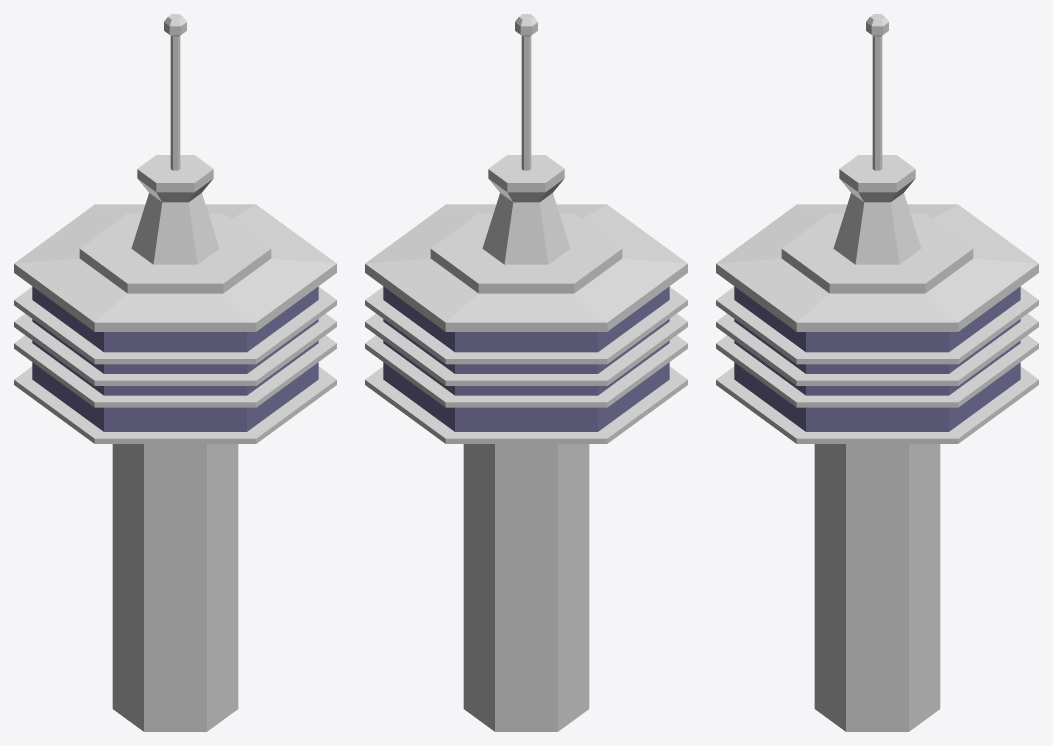
Rendered from Building8.fbx.
3 views of the same model, side by side, from view 1: azimuth 30°, elevation 25°; view 2: azimuth 150°, elevation 25°; view 3: azimuth 270°, elevation 25° (orthographic).
Visible parts, largest first — view 1: Cylinder.001, Cylinder, Cylinder.002, Cylinder.004, Cylinder.005, Cylinder.003; view 2: Cylinder.001, Cylinder, Cylinder.002, Cylinder.004, Cylinder.005, Cylinder.003; view 3: Cylinder.001, Cylinder, Cylinder.002, Cylinder.004, Cylinder.005, Cylinder.003.
Boxes of the visible parts, x1,y1,x2,y2 form: Cylinder.001: (14,366,336,731); Cylinder: (14,14,336,331); Cylinder.002: (32,286,318,431); Cylinder.004: (14,287,336,364); Cylinder.005: (14,335,336,407); Cylinder.003: (14,313,336,385); Cylinder.001: (365,366,687,731); Cylinder: (365,14,687,331); Cylinder.002: (383,286,669,431); Cylinder.004: (365,287,687,364); Cylinder.005: (365,335,687,407); Cylinder.003: (365,313,687,385); Cylinder.001: (716,366,1038,731); Cylinder: (716,14,1038,331); Cylinder.002: (734,286,1020,431); Cylinder.004: (716,287,1038,364); Cylinder.005: (716,335,1038,407); Cylinder.003: (716,313,1038,385).
Bounding box in the file's own units: 1170 × 3195 × 1351.
